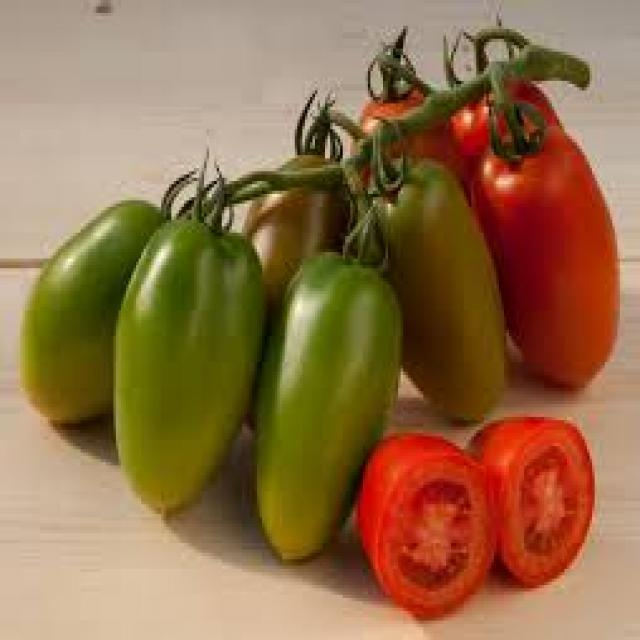organic waste: (113, 204, 262, 524), (260, 236, 403, 566), (360, 158, 509, 417), (479, 123, 620, 394), (18, 197, 179, 427), (355, 433, 494, 618), (464, 411, 594, 585), (244, 152, 356, 297), (358, 81, 466, 207), (448, 68, 562, 174)
